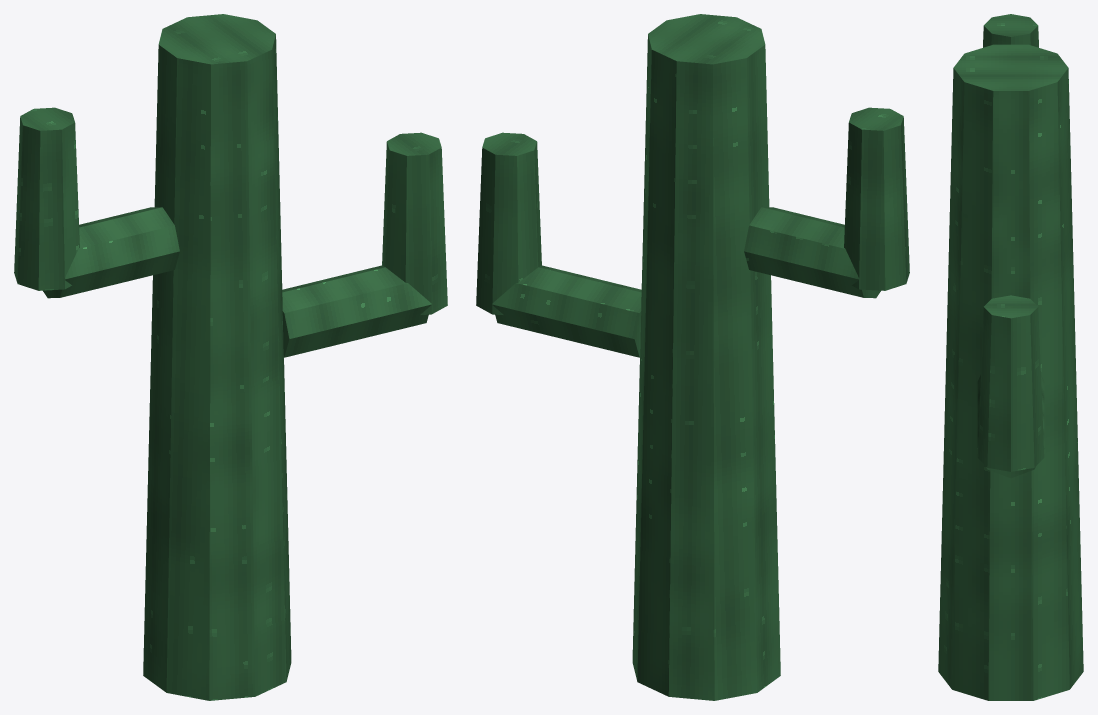
The model's file is kaktus.gltf.
3 renders of one model, left to right at view 1: azimuth 30°, elevation 25°; view 2: azimuth 150°, elevation 25°; view 3: azimuth 270°, elevation 25°, orthographic. The views are drawn at different scales.
Parts seen in each view (by area): view 1: kaktus; view 2: kaktus; view 3: kaktus.
Boxes of the visible parts, x1=… form: kaktus: x1=14, y1=14, x2=447, y2=700; kaktus: x1=476, y1=14, x2=909, y2=700; kaktus: x1=938, y1=14, x2=1083, y2=700.
Size of the model in its own units: 1.56 by 2.2 by 0.48.
1 material, 1 textured.
